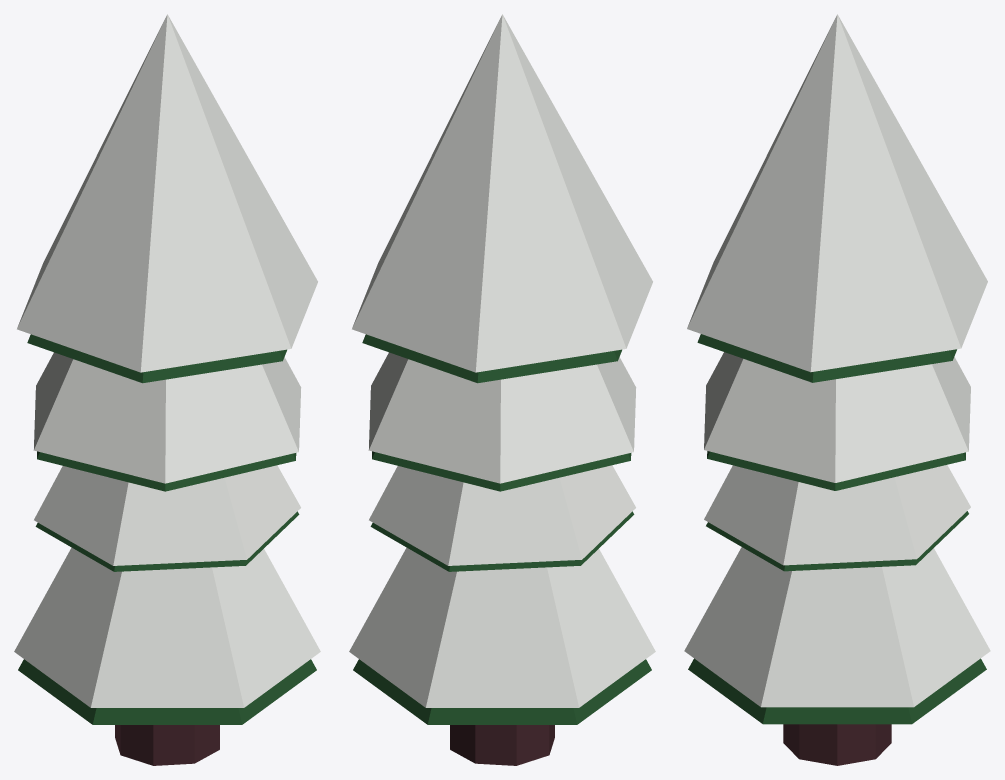
Rendered from Tree.glb.
3 views of the same model, side by side, from view 1: azimuth 30°, elevation 25°; view 2: azimuth 150°, elevation 25°; view 3: azimuth 270°, elevation 25° (orthographic).
Parts seen in each view (by area): view 1: Cylinder; view 2: Cylinder; view 3: Cylinder.
Part boxes in pixels (left/top/right/bottom): Cylinder: left=14, top=14, right=320, bottom=765; Cylinder: left=349, top=14, right=655, bottom=765; Cylinder: left=684, top=14, right=990, bottom=765.
Bounding box in the file's own units: 5.85 × 14.84 × 5.66.
Materials: 1 (1 with a texture image).
